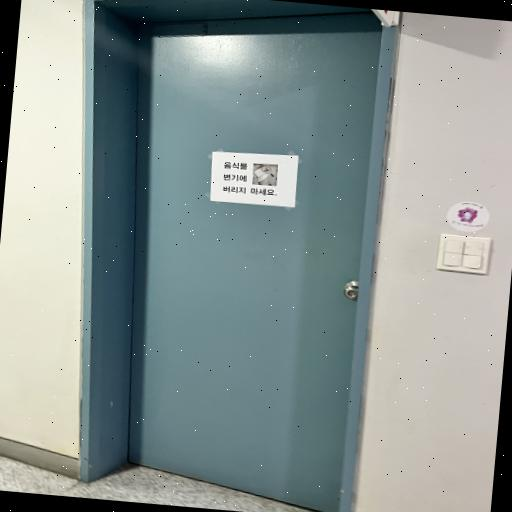door: (81, 0, 400, 512)
